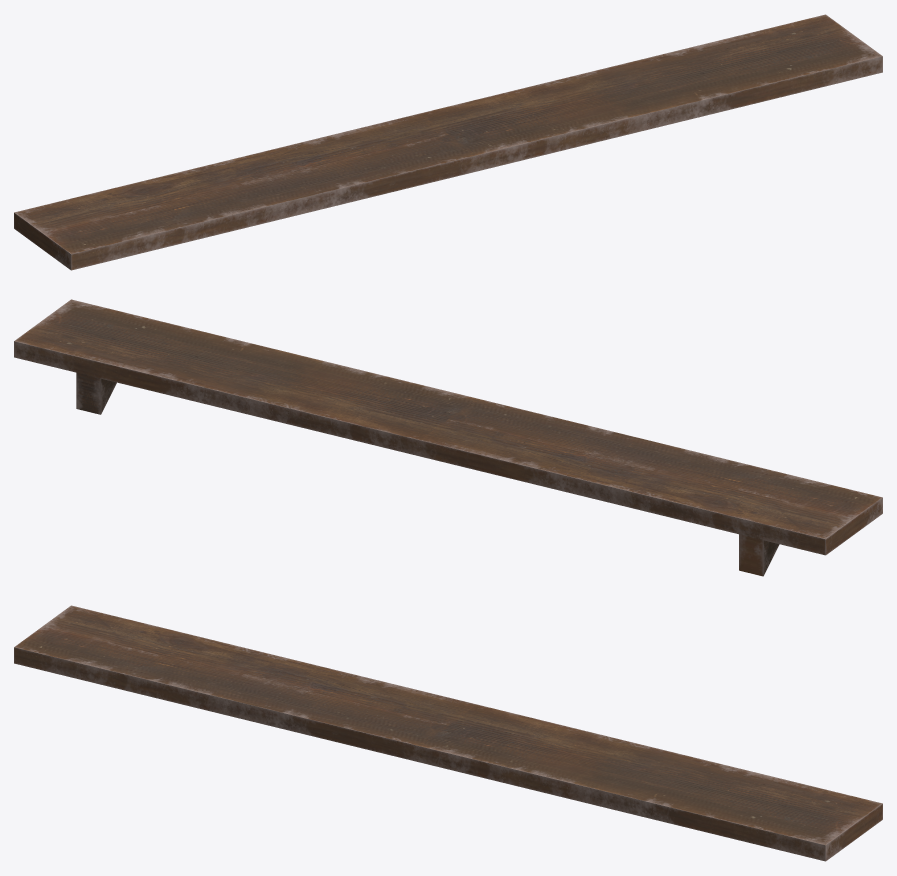
The model's file is single_wood_shelf.glb.
3 renders of one model, top to bottom at view 1: azimuth 30°, elevation 25°; view 2: azimuth 150°, elevation 25°; view 3: azimuth 330°, elevation 25°, orthographic.
Visible parts, largest first — view 1: SM_shelf.003_0; view 2: SM_shelf.003_0; view 3: SM_shelf.003_0.
Part boxes in pixels (x1,y1,x2,y2): SM_shelf.003_0: [14, 14, 882, 270]; SM_shelf.003_0: [14, 299, 882, 576]; SM_shelf.003_0: [14, 605, 882, 861].
Size of the model in its own units: 1.71 by 0.1054 by 0.2084.
1 material, 1 textured.
